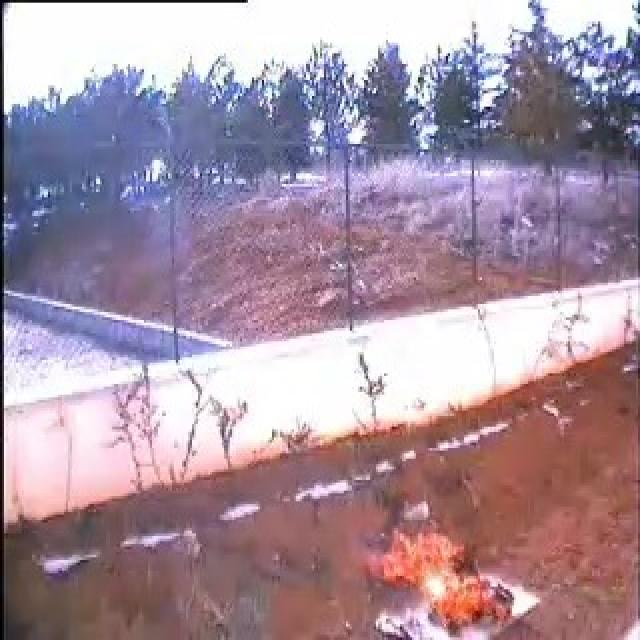fire: (373, 532, 512, 632)
